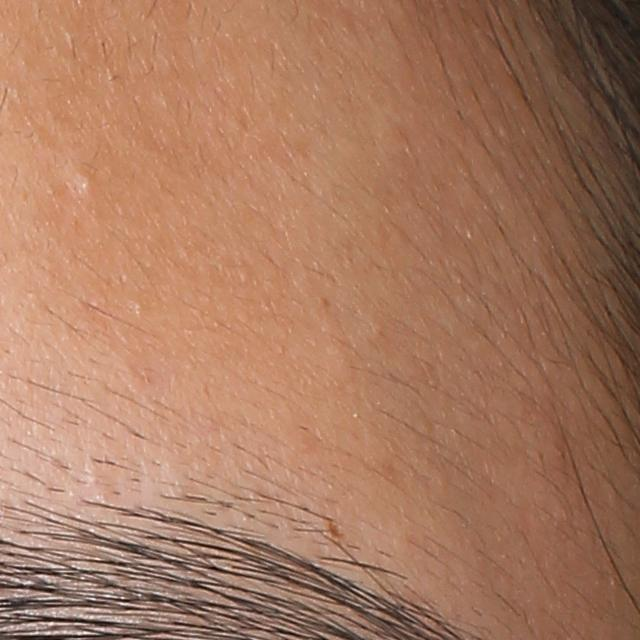comedo: (64, 169, 105, 199)
nevus: (327, 518, 348, 540)
